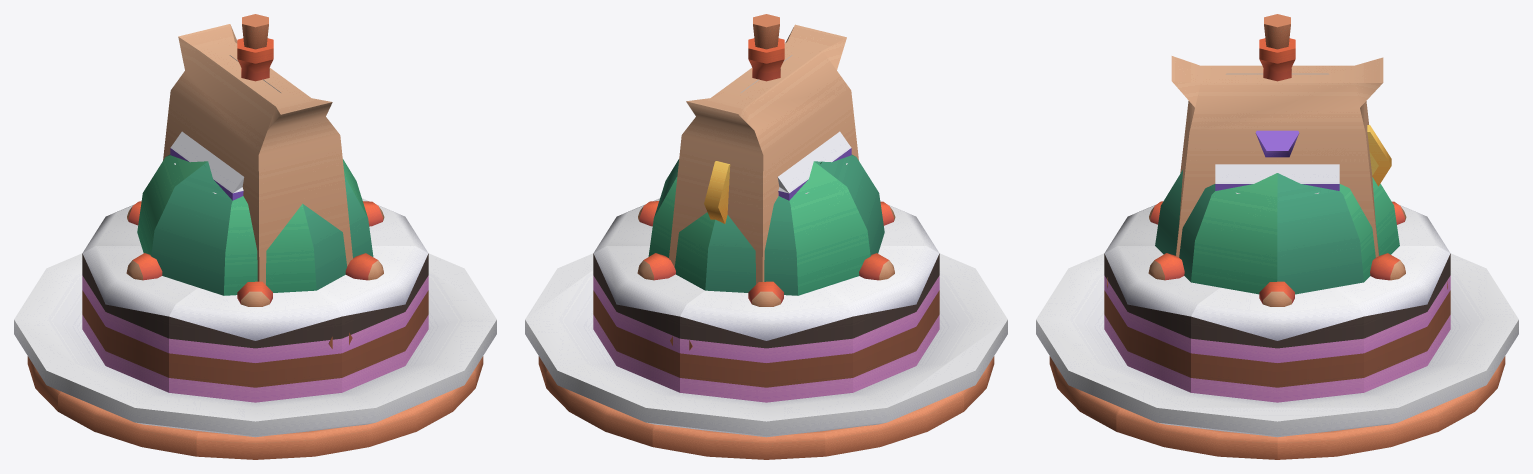
Rendered from food.glb.
The picture shows the model from 3 angles, left to right: view 1: azimuth 30°, elevation 25°; view 2: azimuth 150°, elevation 25°; view 3: azimuth 270°, elevation 25°; orthographic projection.
Visible parts, largest first — view 1: slice (×9), plate, bag, slice7, slice8, slice6, wine-red, carton, slice1; view 2: slice (×9), plate, bag, slice2, slice1, slice3, wine-red, carton, lemon, slice8; view 3: slice (×9), plate, bag, slice4, slice5, carton, wine-red, slice6, slice3, lemon.
Part boxes in pixels (x1,y1,x2,y2): slice (×9): (82, 155, 428, 402); plate: (14, 253, 496, 437); bag: (163, 24, 352, 284); slice7: (196, 424, 369, 459); slice8: (58, 391, 200, 456); slice6: (367, 371, 475, 446); wine-red: (237, 14, 273, 81); carton: (170, 55, 280, 200); slice1: (27, 356, 60, 411); slice (×9): (593, 155, 939, 402); plate: (525, 253, 1007, 437); bag: (669, 24, 858, 284); slice2: (652, 424, 825, 459); slice1: (821, 391, 963, 456); slice3: (546, 371, 654, 446); wine-red: (748, 14, 784, 81); carton: (741, 55, 851, 200); lemon: (704, 161, 730, 223); slice8: (961, 356, 994, 411); slice (×9): (1104, 170, 1450, 402); plate: (1036, 253, 1518, 437); bag: (1171, 56, 1383, 257); slice4: (1277, 408, 1438, 459); slice5: (1116, 408, 1277, 459); carton: (1215, 73, 1339, 190); wine-red: (1259, 14, 1295, 81); slice6: (1049, 356, 1122, 431); slice3: (1432, 356, 1505, 431); lemon: (1367, 125, 1391, 186).
Size of the model in its own units: 0.8918 by 0.6989 by 0.8918.
1 material, 1 textured.
